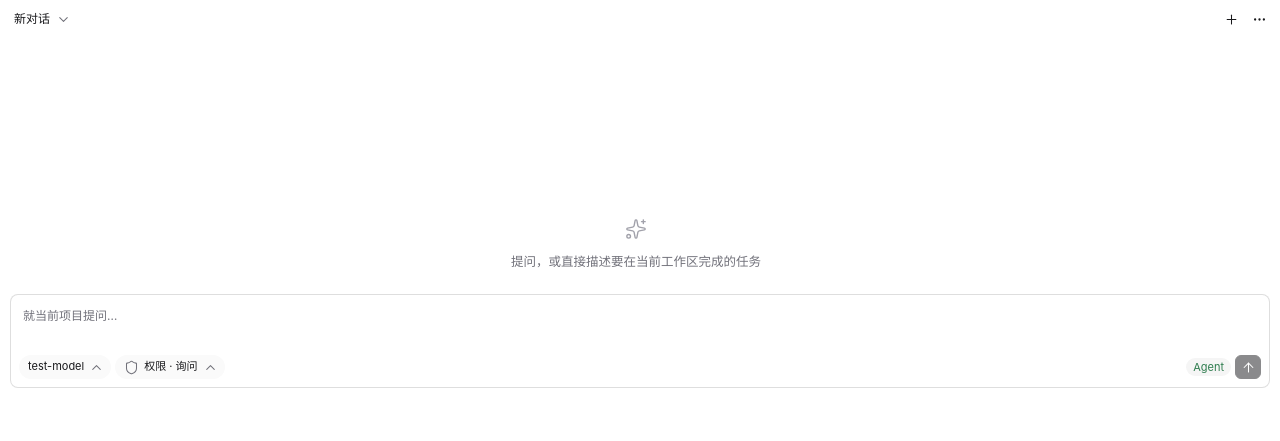
Test: keeps ask permission when saving full access fails
This screenshot has width=1280, height=441.
Click the button with aria-label "执行权限": point(170, 367) [115,355,225,379]
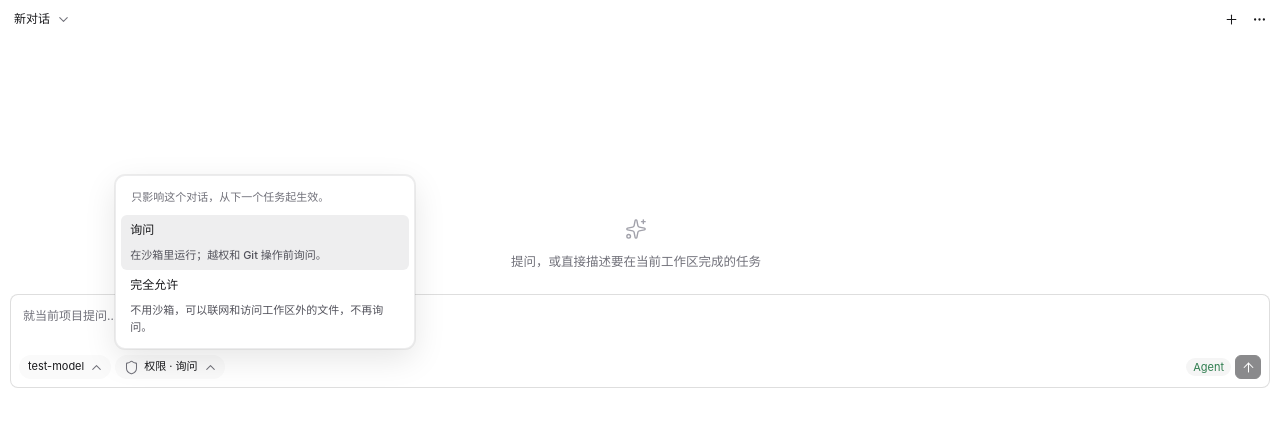
Click the menu item "完全允许 不用沙箱，可以联网和访问工作区外的文件，不再询问。": point(265, 306) [121,270,409,342]
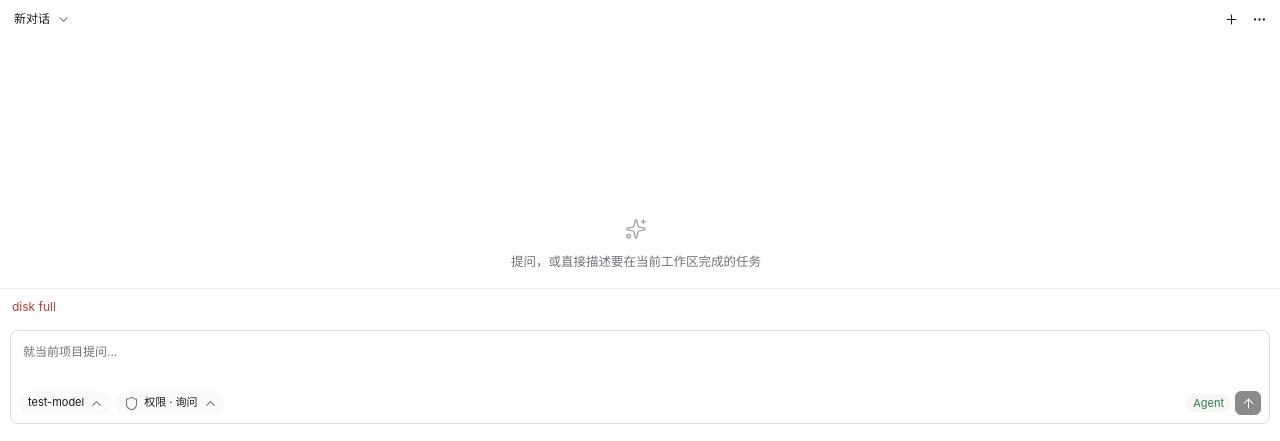
Expected: the button with aria-label "执行权限" shows "询问", [115,391,225,415]
Now the text "disk full" is shown, box [0,288,1279,324]
